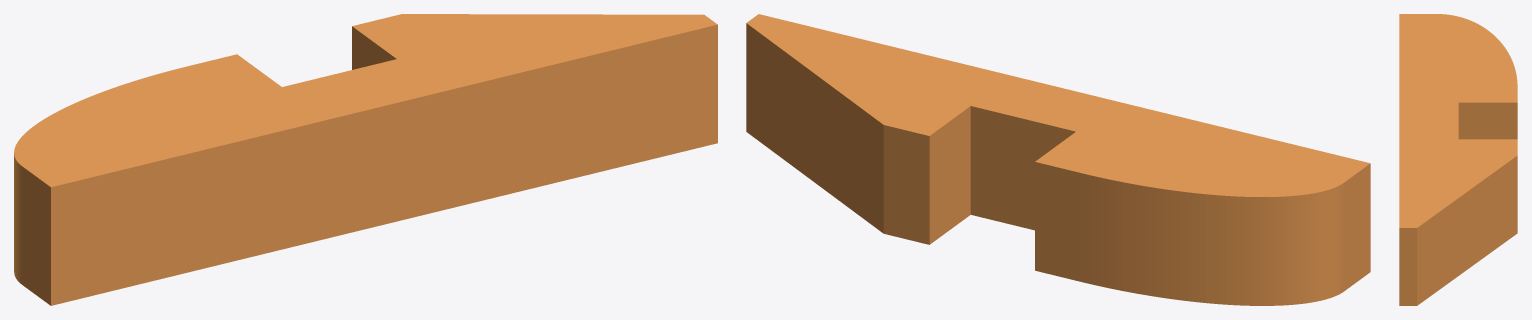
The model's file is WEST_FRONT_SPACER_LINGGONG_trial.glb.
3 renders of one model, left to right at view 1: azimuth 30°, elevation 25°; view 2: azimuth 150°, elevation 25°; view 3: azimuth 270°, elevation 25°, orthographic. The views are drawn at different scales.
Parts seen in each view (by area): view 1: geometry_0; view 2: geometry_0; view 3: geometry_0.
Boxes of the visible parts, box(x1,y1,x2,y2) form: geometry_0: box(14, 14, 717, 305); geometry_0: box(746, 14, 1370, 305); geometry_0: box(1399, 14, 1517, 305).
Size of the model in its own units: 0.9 by 0.153 by 0.21.
